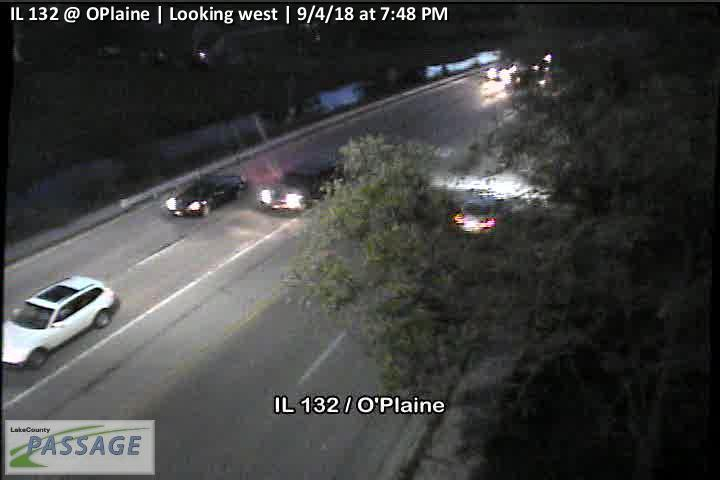SUV: (2, 276, 120, 369), (256, 158, 342, 208)
Sedan: (166, 174, 249, 214)
